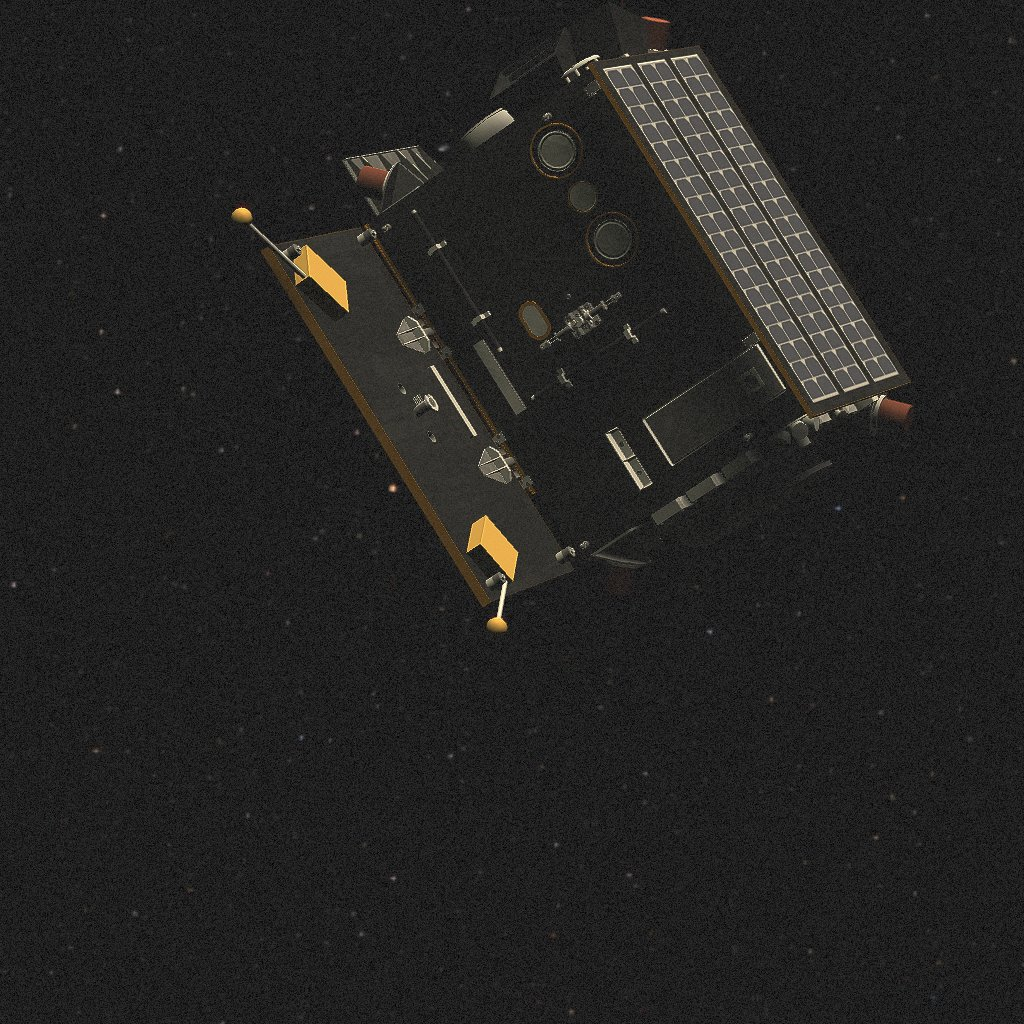proba_2: (231, 0, 914, 639)
